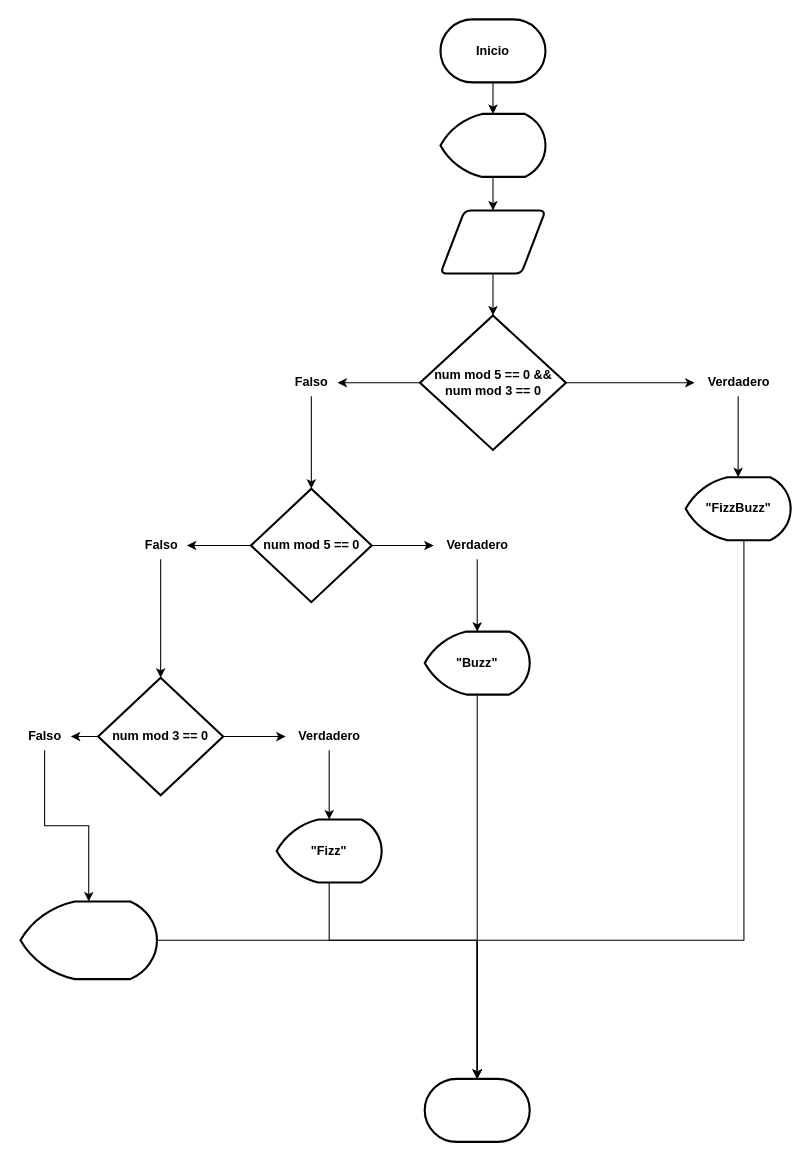
This 810x1160 diagram has some shape labels left out. Here are the shapes that lost their labels. From the top down, the centre of each, then its label:
point (492, 144): "Ingrese un numero"
point (492, 241): num
point (88, 940): "No es divisible ni por 5 ni por 3"
point (476, 1109): Fin
